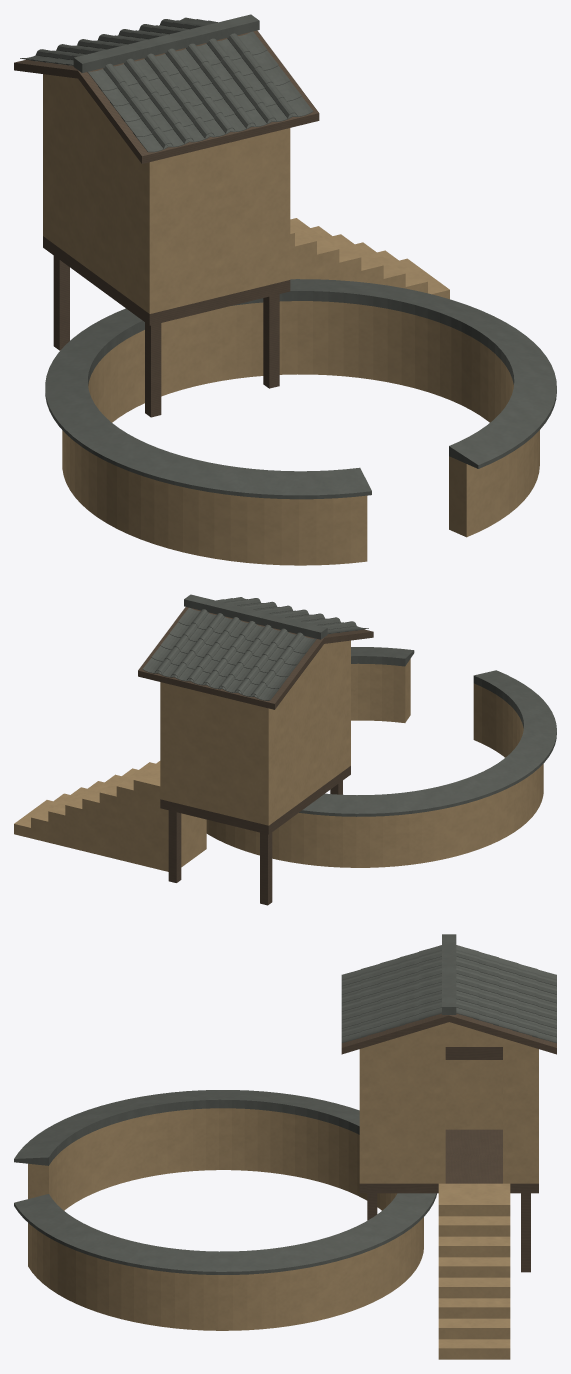
The model's file is service-A-LOD0.glb.
3 views of the same model, one above another, from view 1: azimuth 30°, elevation 25°; view 2: azimuth 150°, elevation 25°; view 3: azimuth 270°, elevation 25° (orthographic). The views are drawn at different scales.
Visible parts, largest first — view 1: service-A-static_earth, service-A-static_tile, service-A-static_timber; view 2: service-A-static_earth, service-A-static_tile, service-A-static_timber; view 3: service-A-static_earth, service-A-static_tile, service-A-static_timber.
Part boxes in pixels (x1=…): service-A-static_earth: x1=43, y1=74, x2=539, y2=565; service-A-static_tile: x1=20, y1=14, x2=556, y2=499; service-A-static_timber: x1=14, y1=30, x2=319, y2=417; service-A-static_earth: x1=14, y1=640, x2=543, y2=871; service-A-static_tile: x1=142, y1=594, x2=556, y2=816; service-A-static_timber: x1=138, y1=607, x2=373, y2=905; service-A-static_earth: x1=28, y1=1022, x2=538, y2=1359; service-A-static_tile: x1=14, y1=934, x2=556, y2=1274; service-A-static_timber: x1=341, y1=945, x2=556, y2=1272.
Size of the model in its own units: 6.75 by 4.23 by 7.56.
3 materials, 3 textured.
